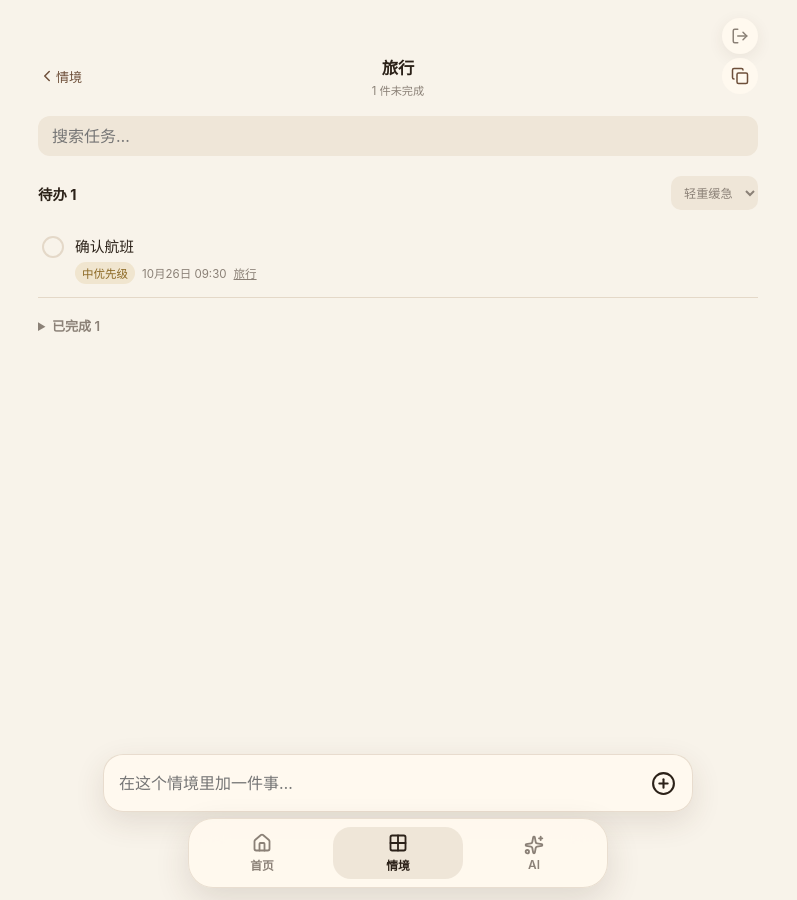
task interactions › supports search, all three sort modes, and a completed section
This screenshot has width=797, height=900.
Select "时间" in the dropdown named "任务排序": point(714, 193) top-left (671, 176), bottom-right (758, 210)
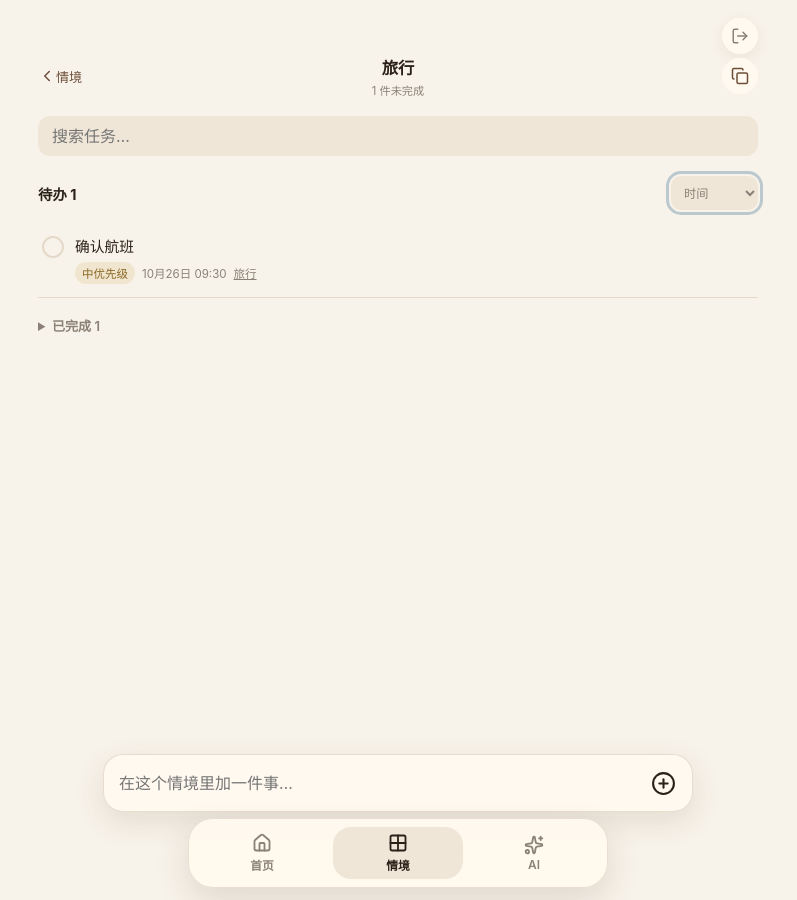
In the search field labelled "搜索任务": point(398, 136) top-left (38, 116), bottom-right (758, 156), type "航班"
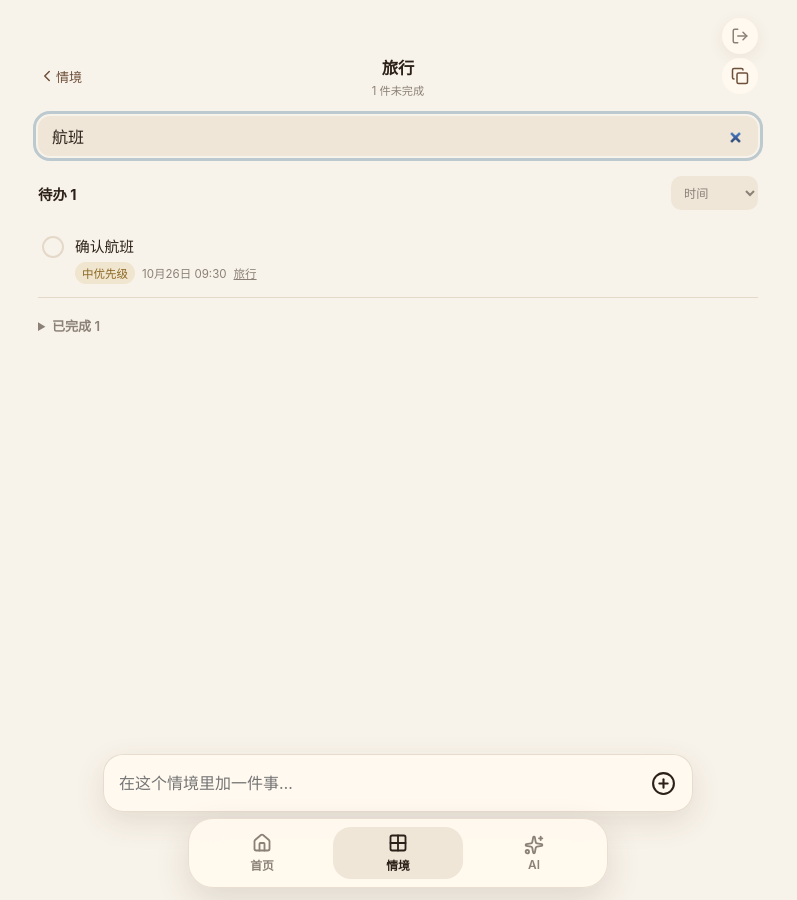
Click the heading "已完成 1": point(76, 326) top-left (52, 318), bottom-right (100, 334)
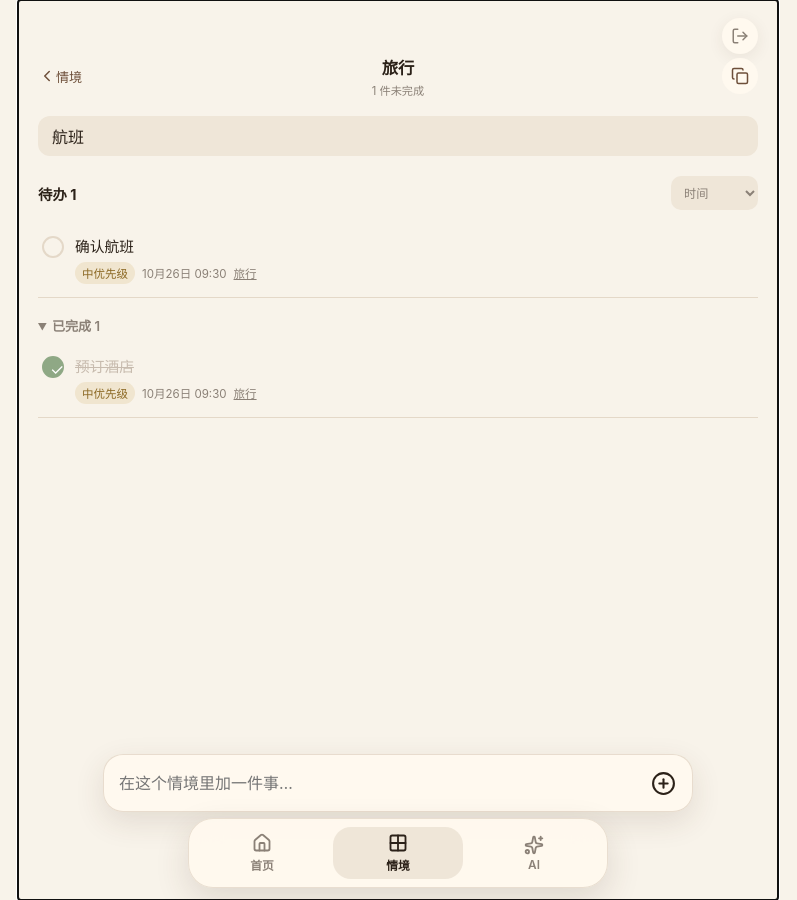
Result: the button "预订酒店" is shown at top-left (75, 355), bottom-right (134, 376)
